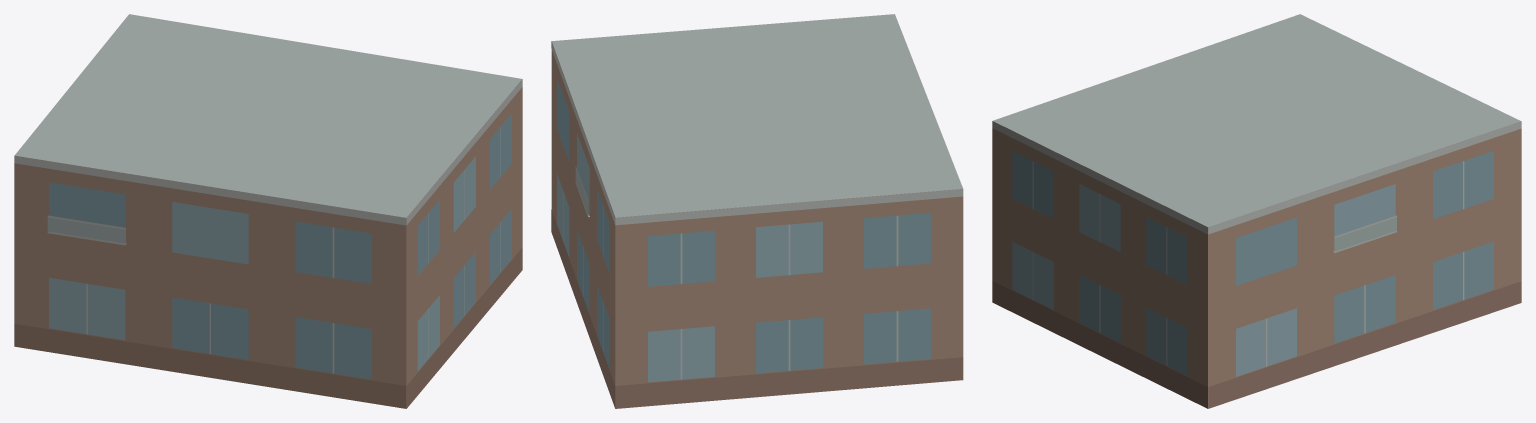
Rendered from survey-upis-32729282.glb.
The picture shows the model from 3 angles, left to right: view 1: azimuth 30°, elevation 25°; view 2: azimuth 150°, elevation 25°; view 3: azimuth 270°, elevation 25°; orthographic projection. The views are drawn at different scales.
Parts seen in each view (by area): view 1: survey-upis-32729282.tmp; view 2: survey-upis-32729282.tmp; view 3: survey-upis-32729282.tmp.
Boxes of the visible parts, box(x1,y1,x2,y2) form: survey-upis-32729282.tmp: box(14, 14, 522, 408); survey-upis-32729282.tmp: box(551, 14, 963, 408); survey-upis-32729282.tmp: box(992, 14, 1521, 408).
Bounding box in the file's own units: 15.38 × 6.1 × 16.12.
